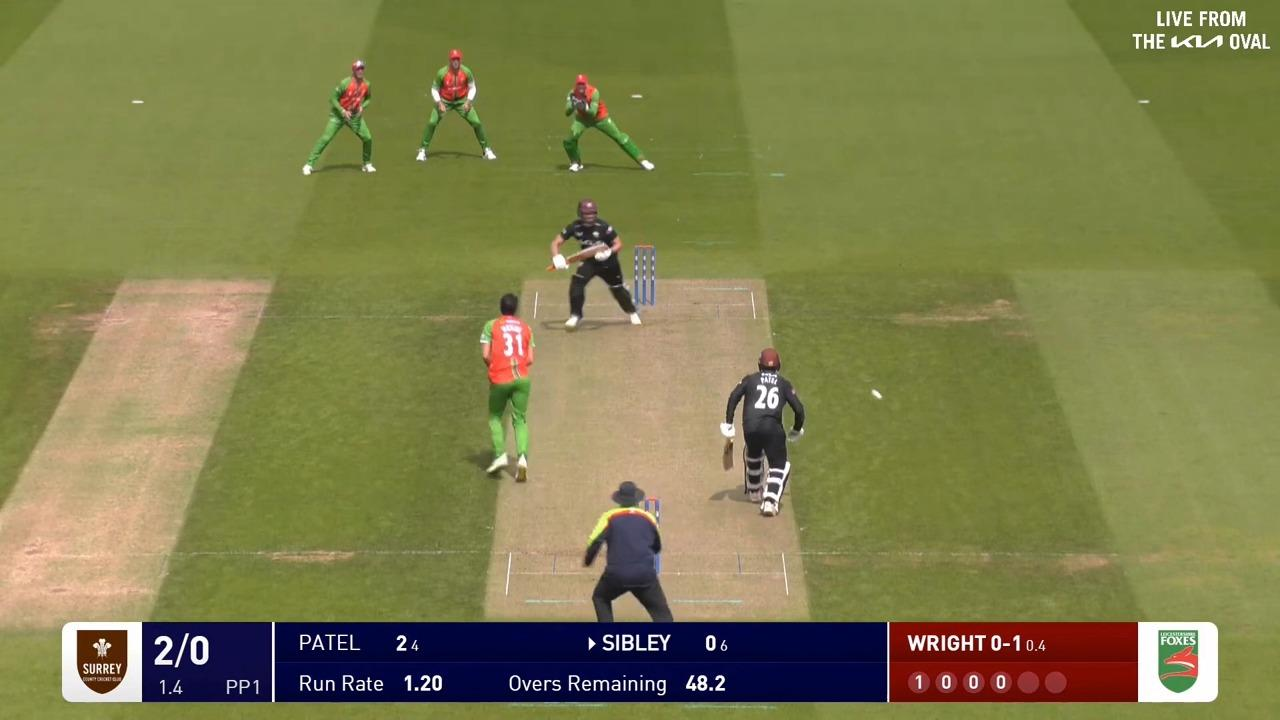sports ball: (871, 389, 883, 400)
